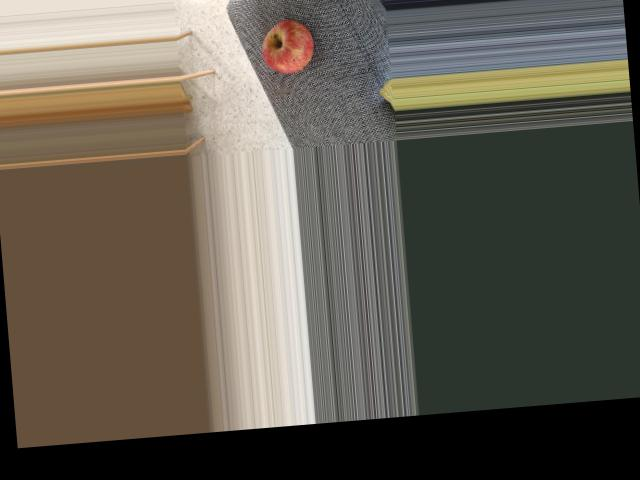apple: (256, 14, 320, 76)
